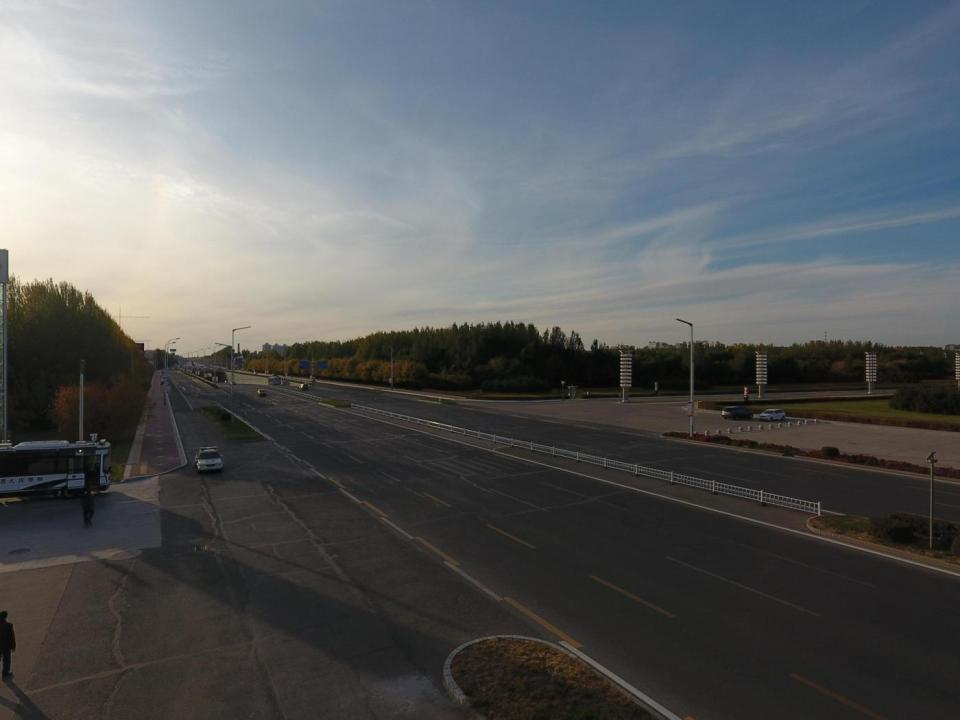bus: (0, 432, 112, 505), (266, 376, 283, 385)
car: (194, 446, 224, 473), (722, 406, 754, 420), (758, 409, 786, 421), (256, 389, 268, 397), (298, 382, 308, 390)
